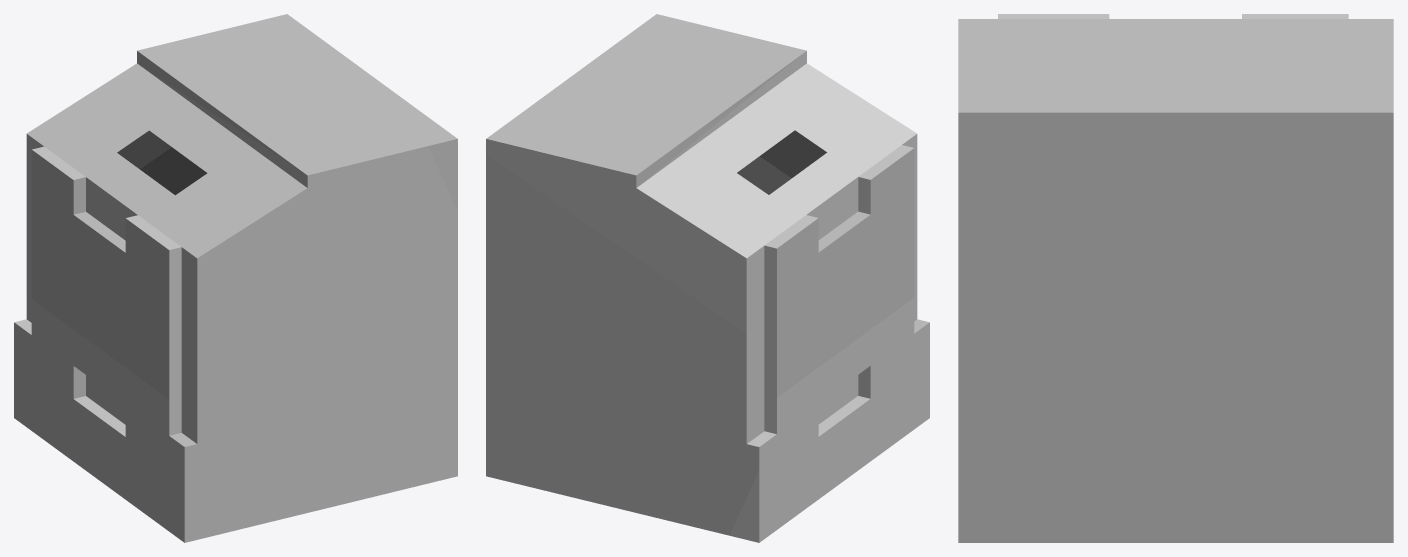
The model's file is printer_uv.fbx.
3 renders of one model, left to right at view 1: azimuth 30°, elevation 25°; view 2: azimuth 150°, elevation 25°; view 3: azimuth 270°, elevation 25°, orthographic. The views are drawn at different scales.
Visible parts, largest first — view 1: _Printer:Mesh; view 2: _Printer:Mesh; view 3: _Printer:Mesh.
Boxes of the visible parts, <box> form: _Printer:Mesh: <box>14,14,457,542</box>; _Printer:Mesh: <box>486,14,929,542</box>; _Printer:Mesh: <box>958,14,1393,542</box>.
Size of the model in its own units: 4.97 by 5.87 by 5.38.
Materials: 1 (1 with a texture image).
